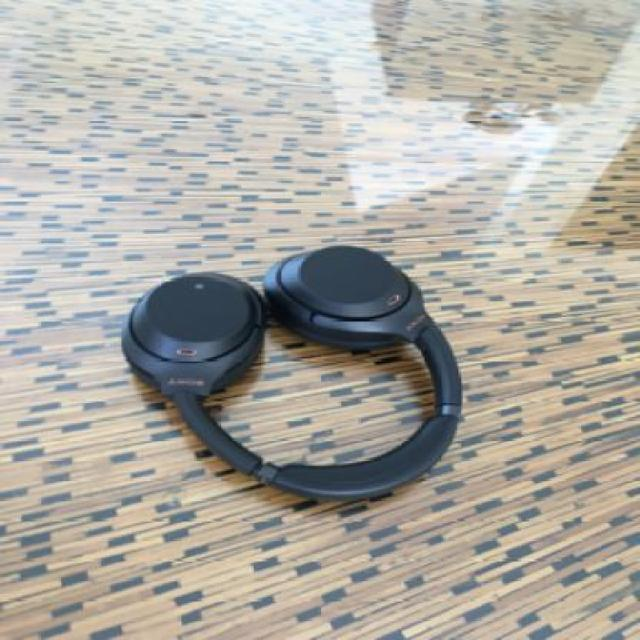earphone: (112, 202, 493, 518)
